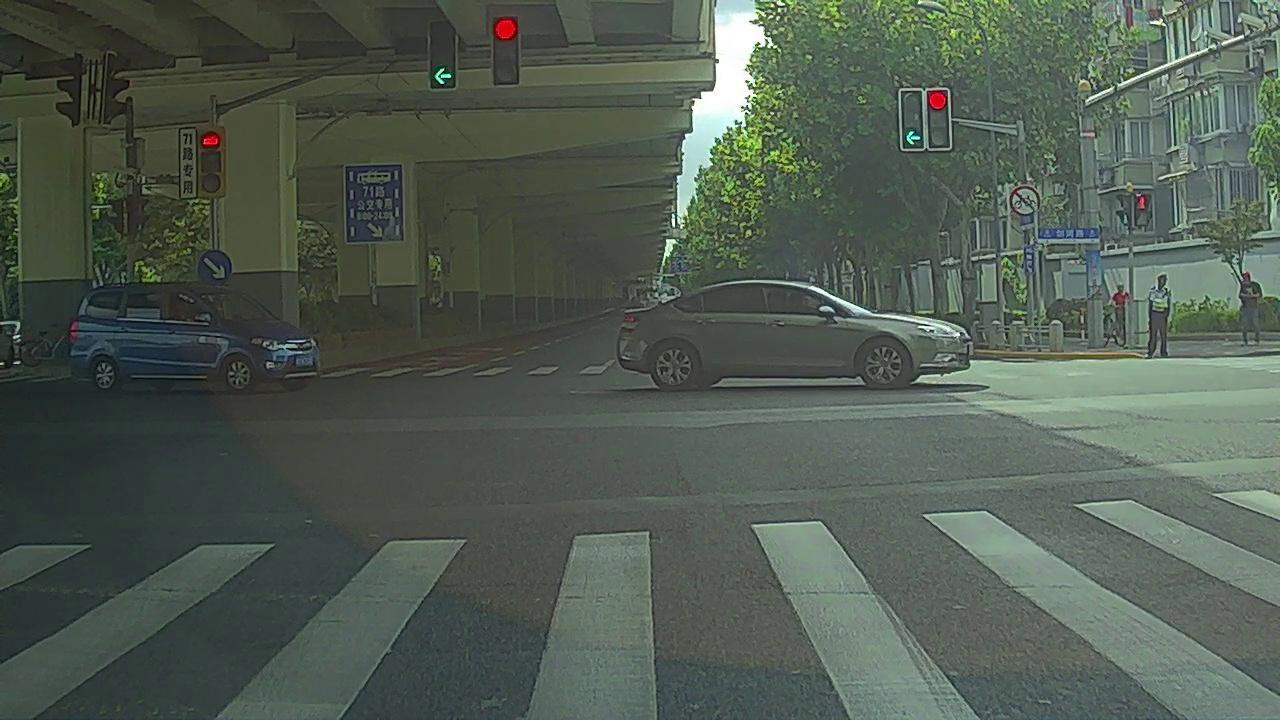traffic_light: (429, 23, 457, 87), (924, 87, 951, 148), (493, 17, 517, 84), (900, 88, 926, 149)
